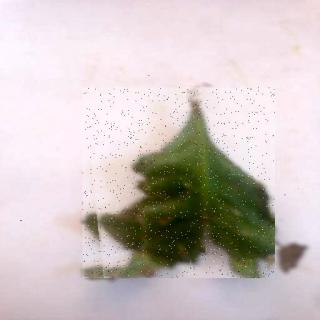Brown Blight: (84, 89, 276, 279)
